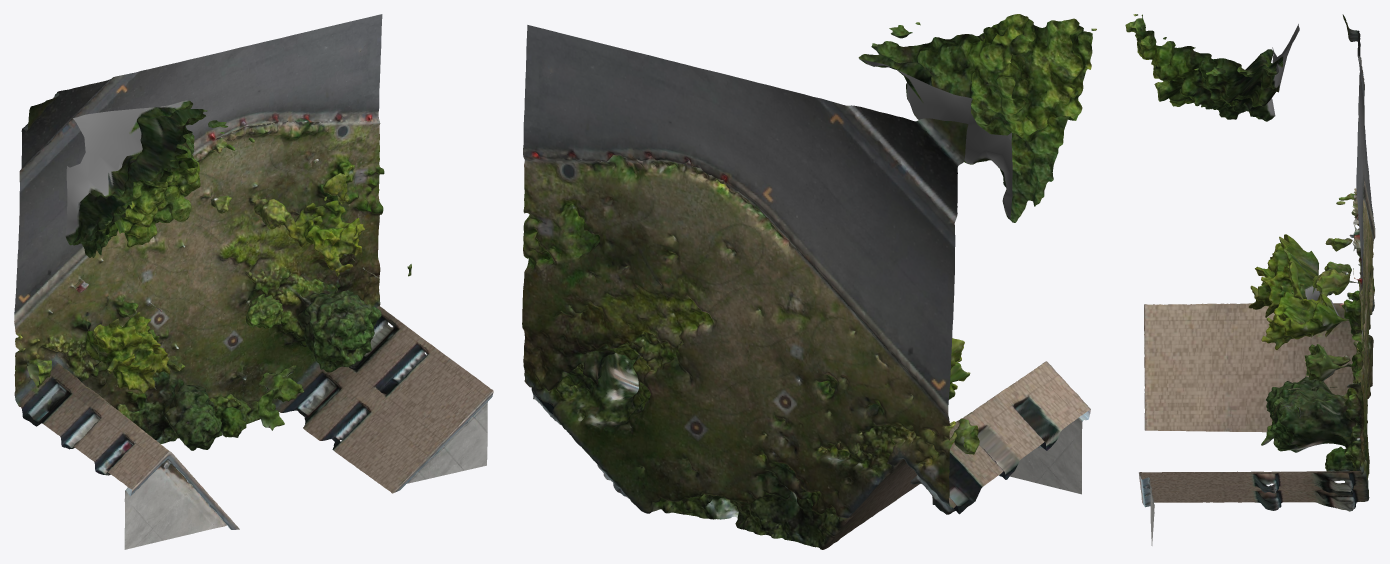
File: Tile_+007_+009.fbx
The picture shows the model from 3 angles, left to right: view 1: azimuth 30°, elevation 25°; view 2: azimuth 150°, elevation 25°; view 3: azimuth 270°, elevation 25°; orthographic projection. The views are drawn at different scales.
Parts seen in each view (by area): view 1: DefaultName; view 2: DefaultName; view 3: DefaultName.
Boxes of the visible parts, x1,y1,x2,y2 form: DefaultName: (14, 14, 493, 549); DefaultName: (522, 14, 1096, 549); DefaultName: (1125, 14, 1375, 545).
Bounding box in the file's own units: 22.54 × 22.54 × 13.97.
